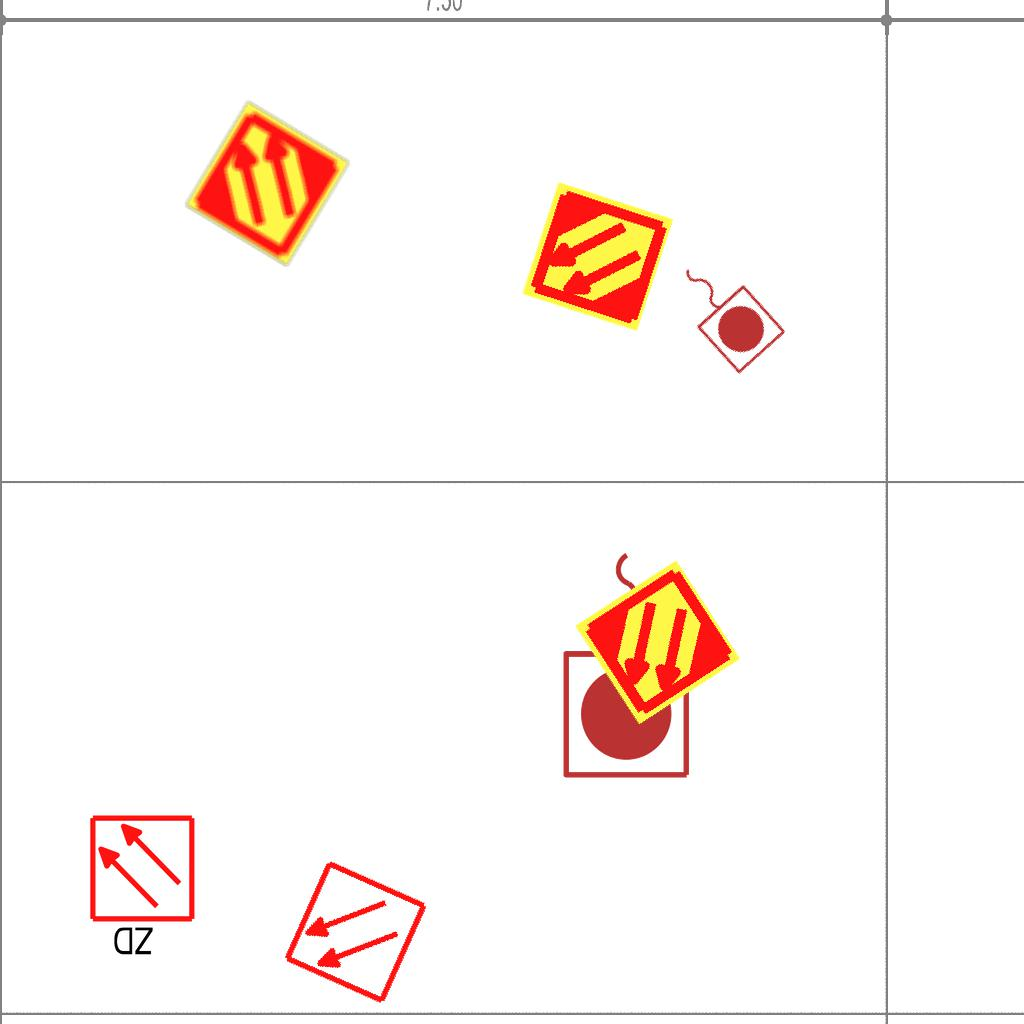ASR_Ansaugrauchmelder: (181, 97, 354, 270), (571, 556, 744, 729), (518, 177, 677, 336)
RMO_Rauchmelder_optischer: (280, 857, 431, 1008)
ZD_Melder_in_Zwischendecke_mit_Revisionsoeffnung_mind_40_x_40_cm: (87, 813, 201, 962)
Zugtaster: (556, 542, 700, 786), (657, 240, 793, 380)
